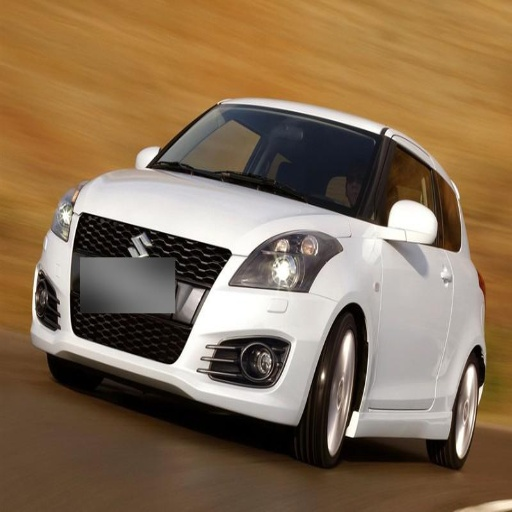front_bumper: (37, 210, 334, 422)
front_glass: (148, 106, 376, 212)
front_left_door: (373, 139, 442, 407)
front_left_light: (232, 230, 340, 291)
